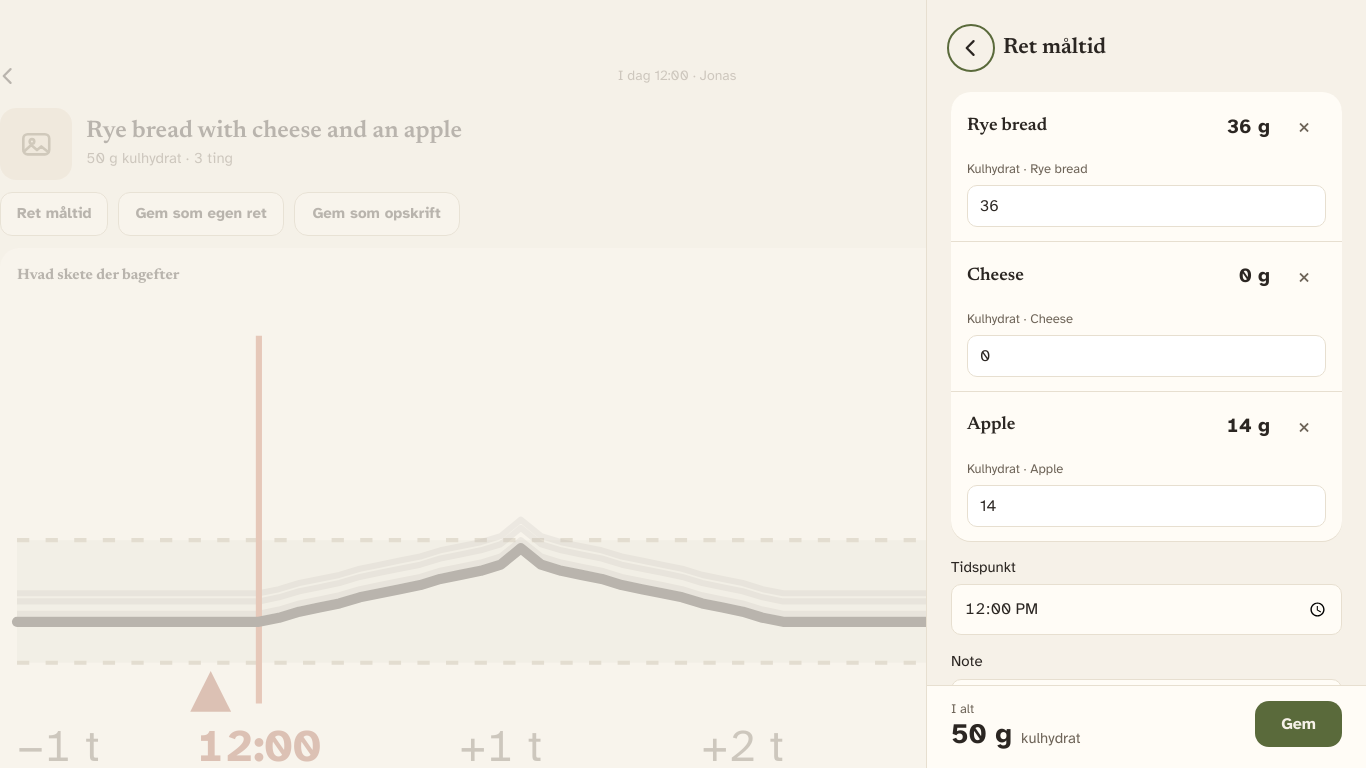
Test: Måltid · opened on ?edit=1 › phone: arrives with the sheet open, and closing it drops the parameter without a reload
The image size is (1366, 768).
Check: the dialog "Ret måltid" is shown, box [926,0,1365,767]
Click the button named "Tilbage" at (971, 48), box [951,28,991,68]
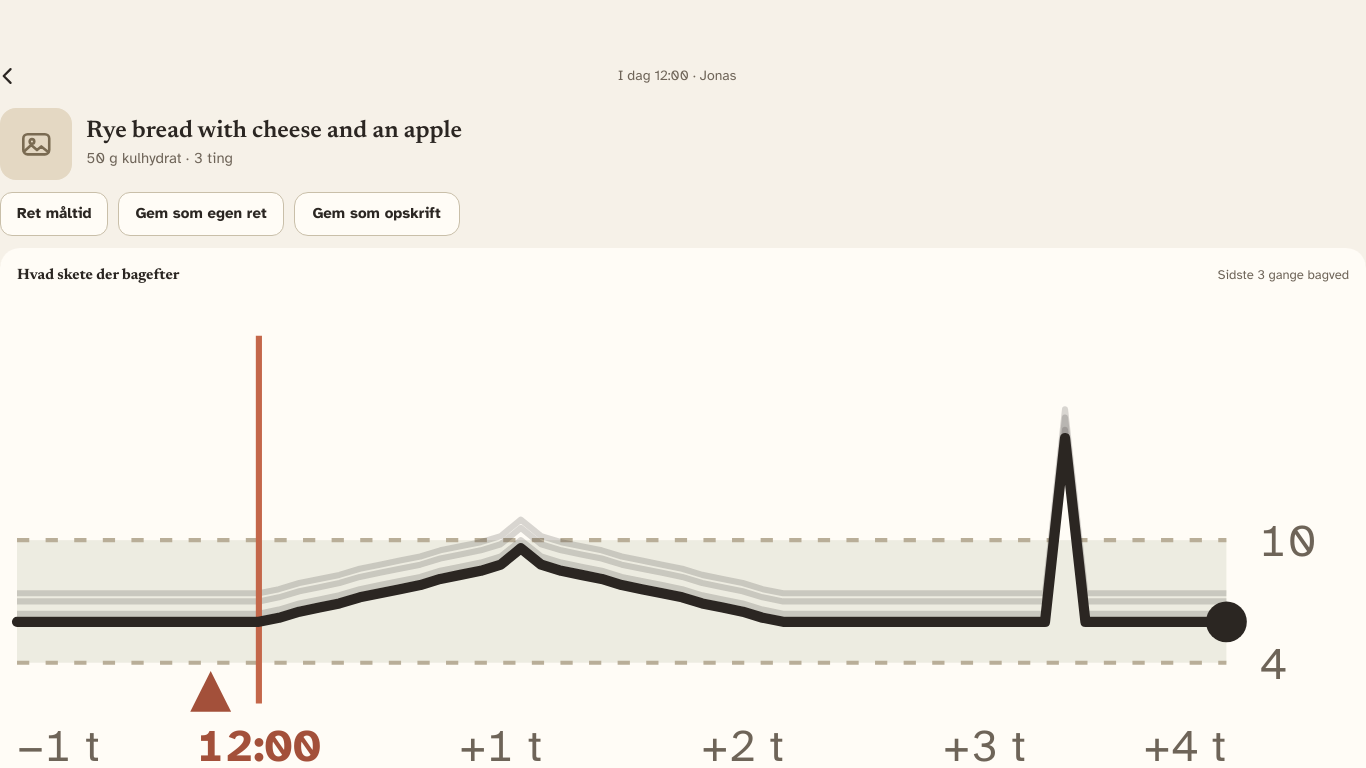
Check: the dialog is gone
# Opening it again from the header leaves the address alone.
Click the button "Ret måltid" at (54, 214), box [0,192,108,236]
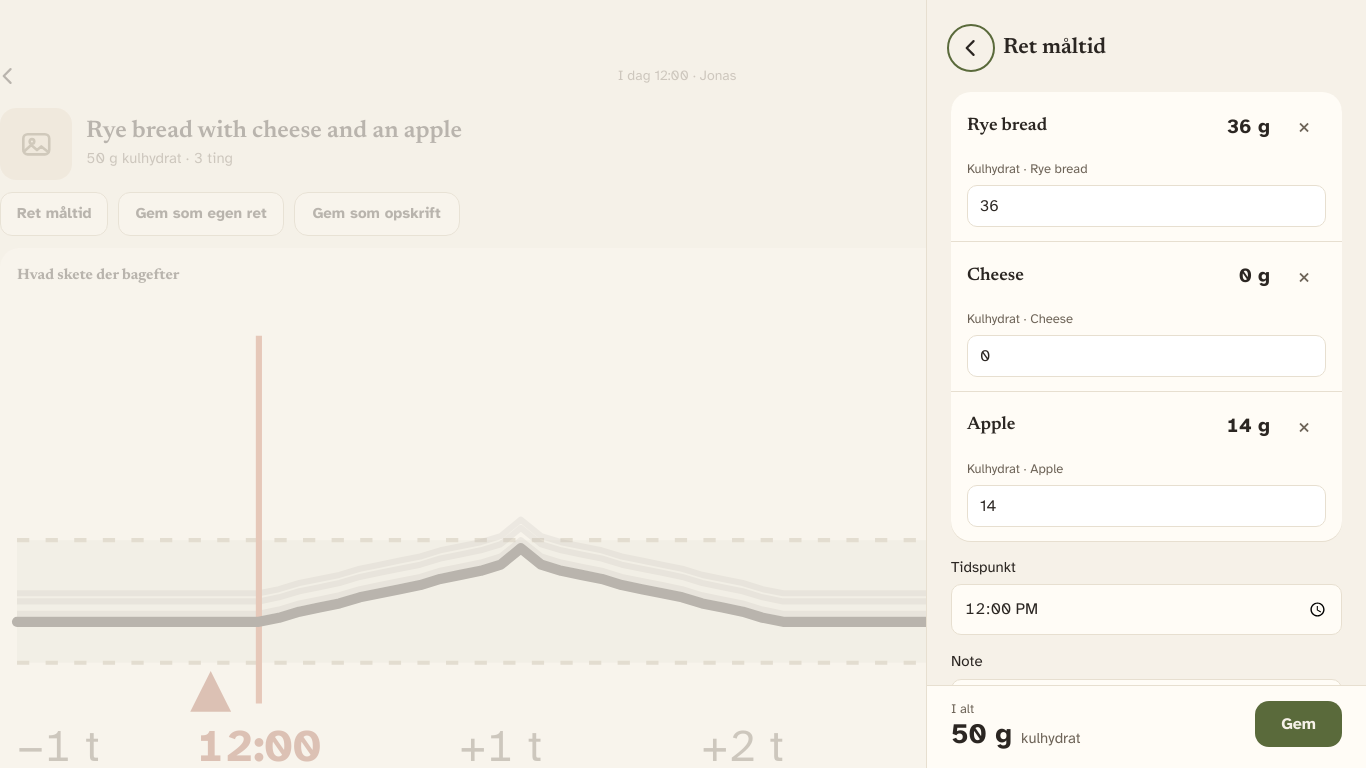
Check: the dialog "Ret måltid" is shown, box [926,0,1365,767]
